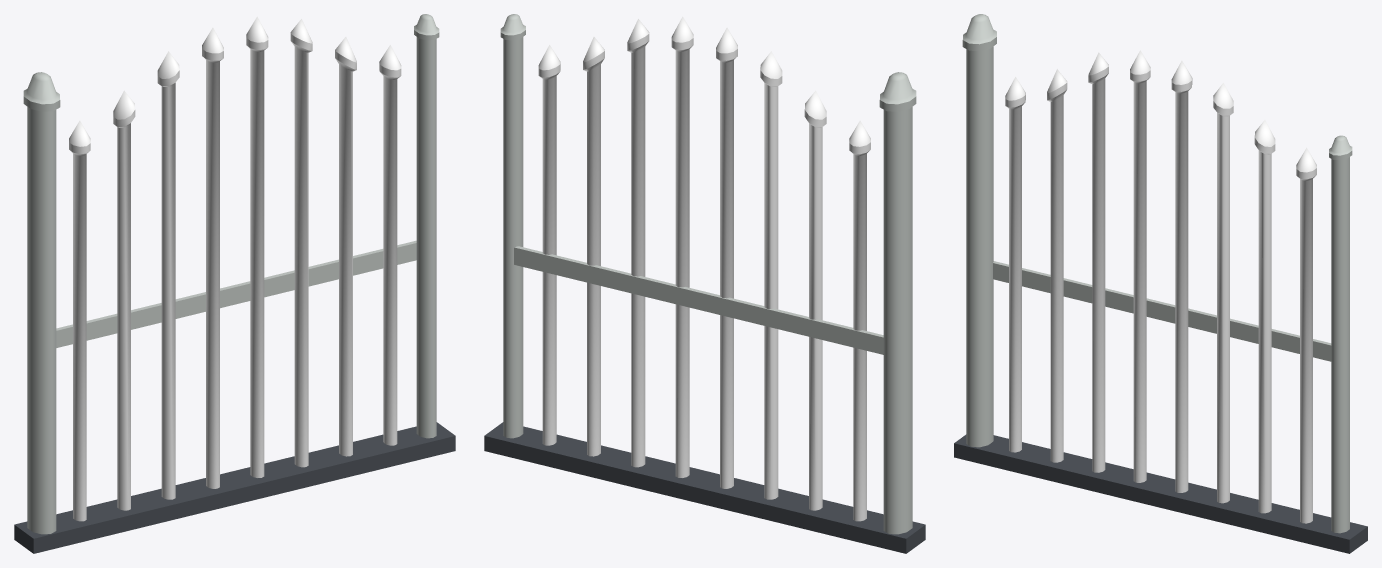
File: Fence Door_1.fbx
3 views of the same model, side by side, from view 1: azimuth 30°, elevation 25°; view 2: azimuth 150°, elevation 25°; view 3: azimuth 330°, elevation 25° (orthographic). The views are drawn at different scales.
Parts seen in each view (by area): view 1: Fence Door_1; view 2: Fence Door_1; view 3: Fence Door_1.
Boxes of the visible parts, x1,y1,x2,y2 form: Fence Door_1: (14,14,455,553); Fence Door_1: (484,14,925,553); Fence Door_1: (954,14,1367,553).
Bounding box in the file's own units: 269 × 288 × 25.21.
